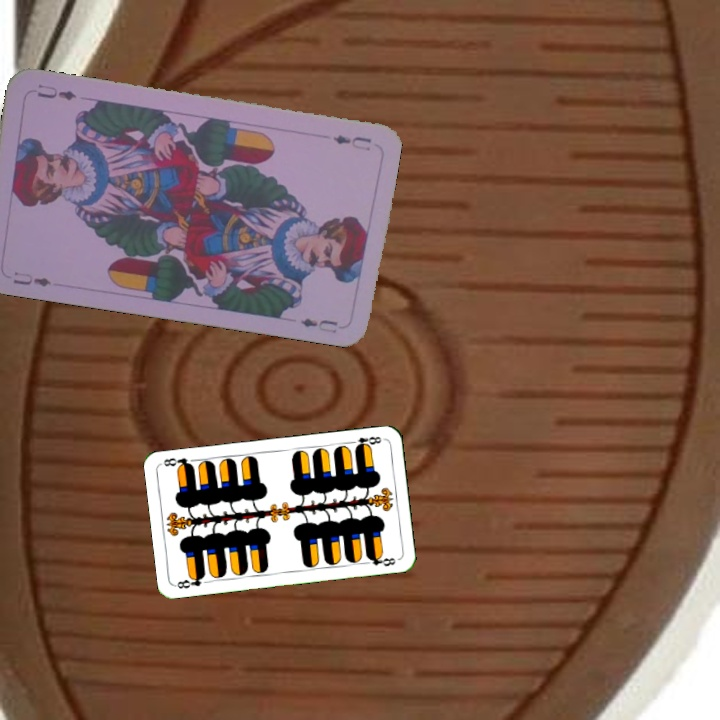E8: (345, 432, 384, 451), (172, 571, 208, 591)
EU: (329, 130, 374, 154), (9, 267, 54, 289)
